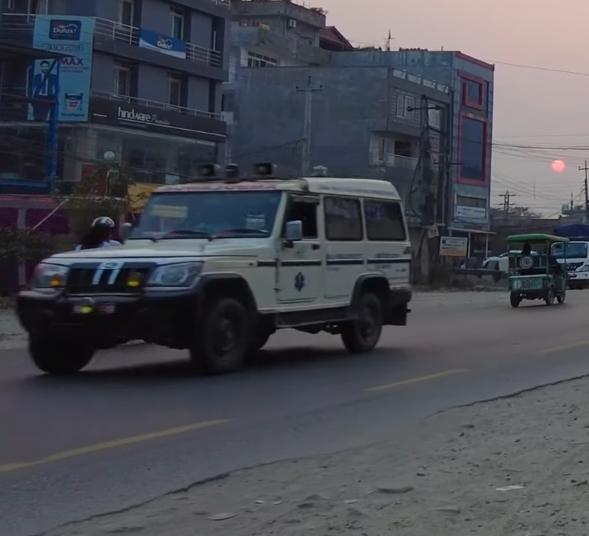ambulance: (18, 158, 415, 381)
e-rickshaw: (501, 228, 569, 309)
